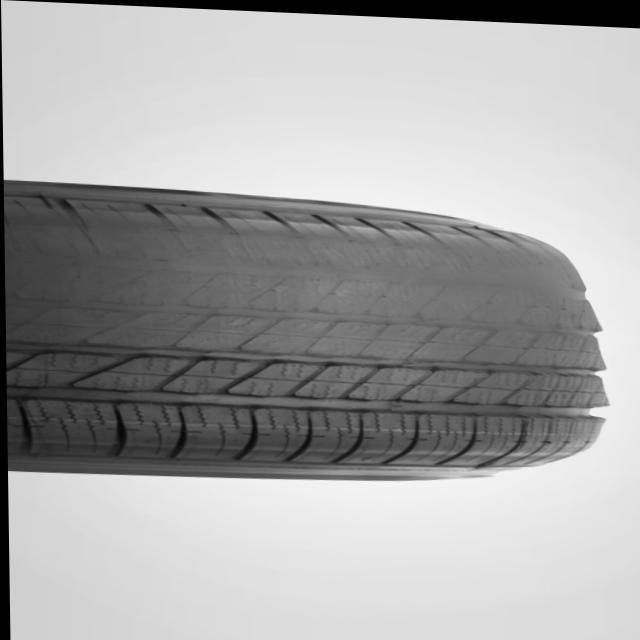Flat spots: (6, 188, 575, 342)
Non-defective: (8, 354, 603, 445)
